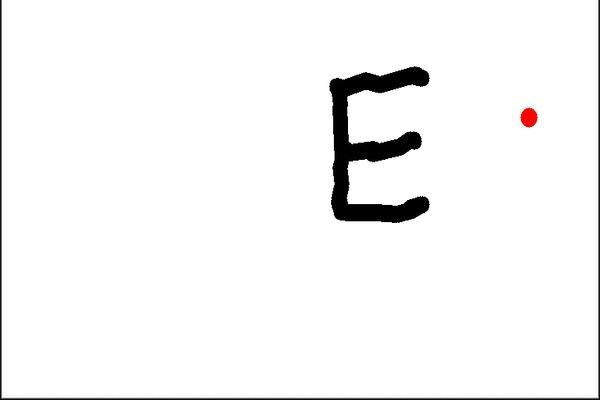E: (320, 62, 439, 231)
